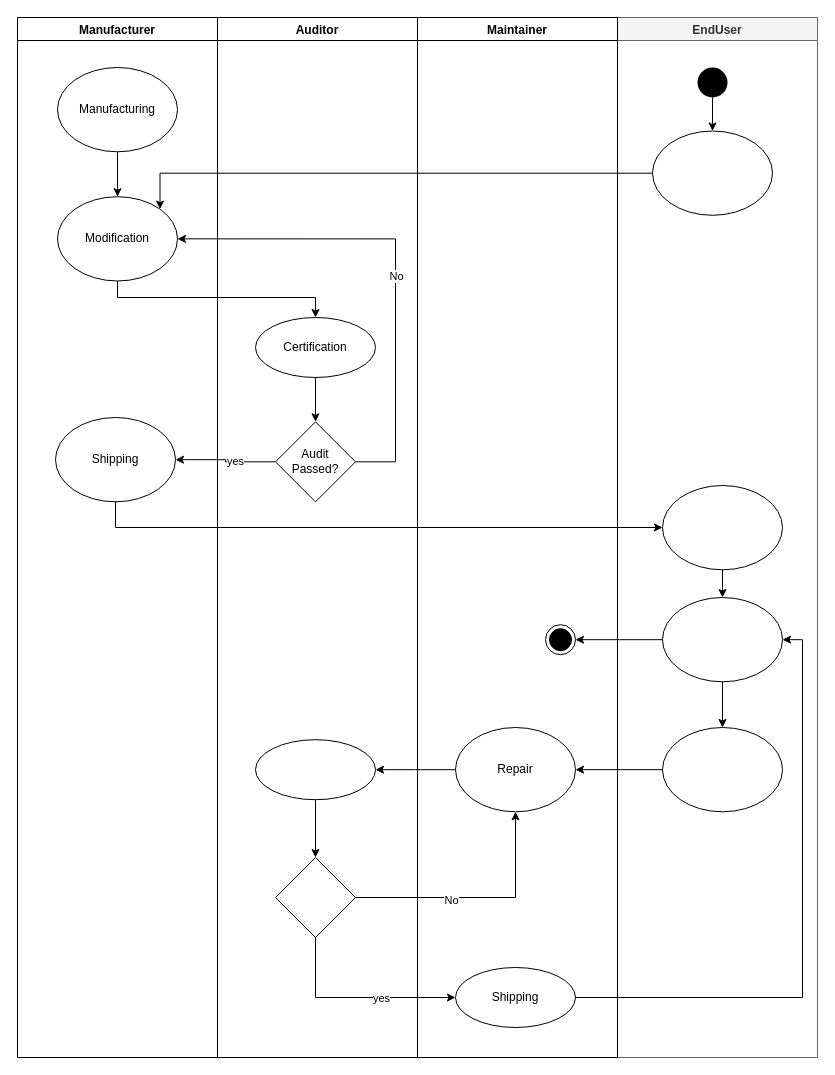
The diagram is 835 pixels wide and 1075 high, and some of its shapes have lost their labels. The shapes that lost their labels are listed below. From the top down, each one's centre as x and y in pixels, then its label:
At (x=712, y=172): "Order Equipment".
At (x=722, y=527): "Commision".
At (x=722, y=639): "Utilization".
At (x=315, y=769): "Inspection".
At (x=722, y=769): "Maintainance".
At (x=315, y=897): "Inspection Passed?".
